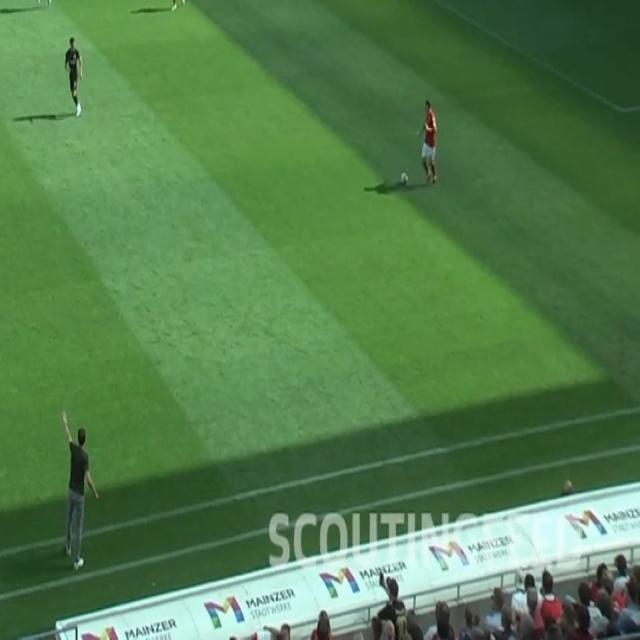ball: (400, 172, 408, 188)
